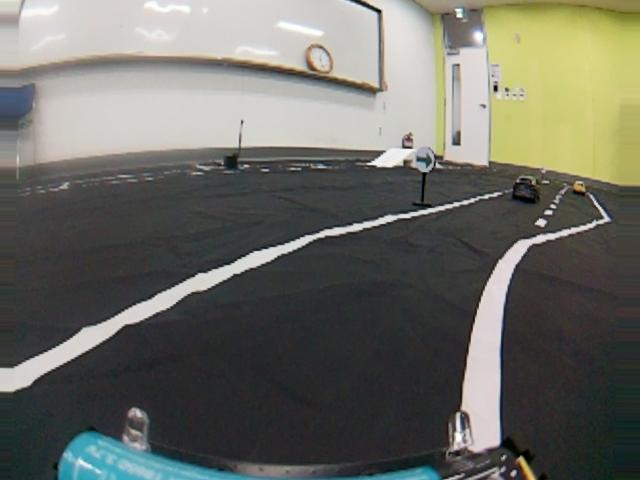car: (513, 174, 544, 204)
sign_right: (7, 216, 629, 469), (415, 147, 436, 174)
